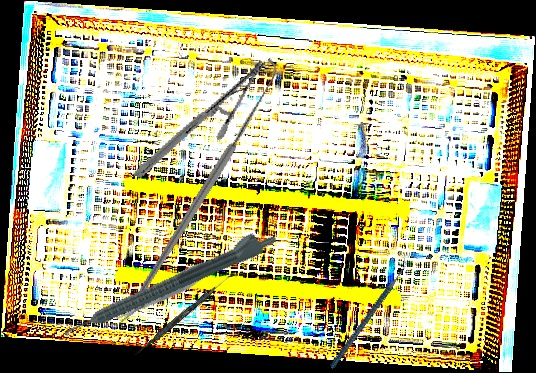Chopper: (302, 253, 435, 370)
Handpiece: (56, 222, 280, 341)
Hook Surgical: (67, 56, 344, 300)
Micro Scissor: (111, 254, 220, 328)
Needle Holder: (132, 33, 268, 205)
Spatula Surgical: (133, 269, 235, 360)
